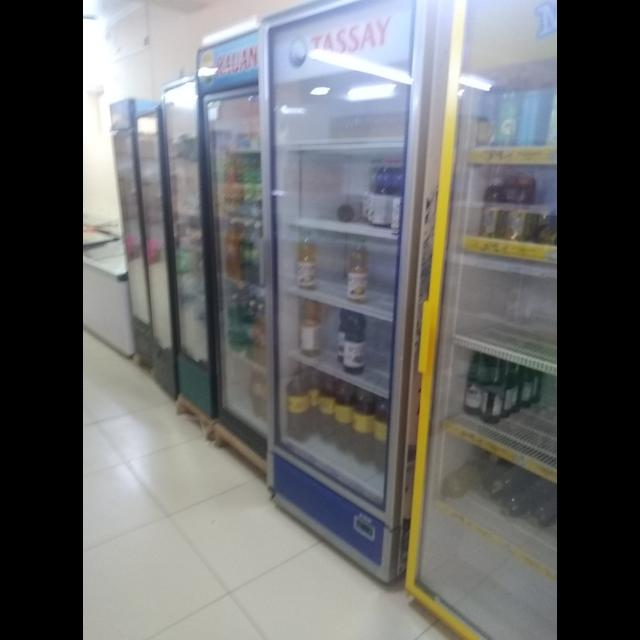Cooling-Display: (256, 0, 436, 582)
